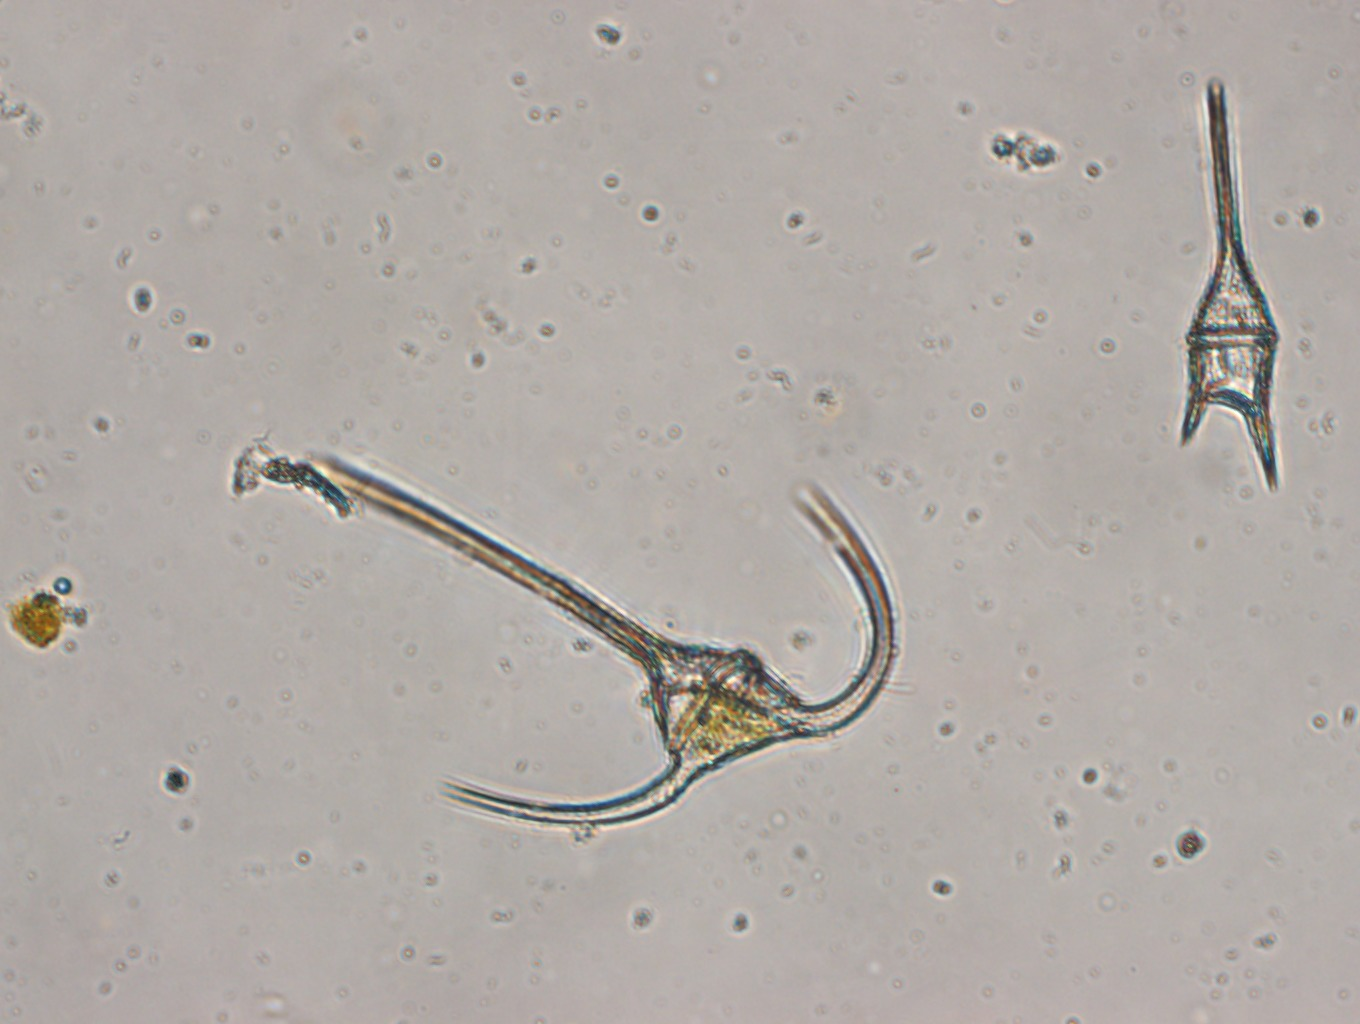ceratium furca: (1169, 72, 1294, 501)
ceratium trichoceros: (307, 449, 898, 837)
